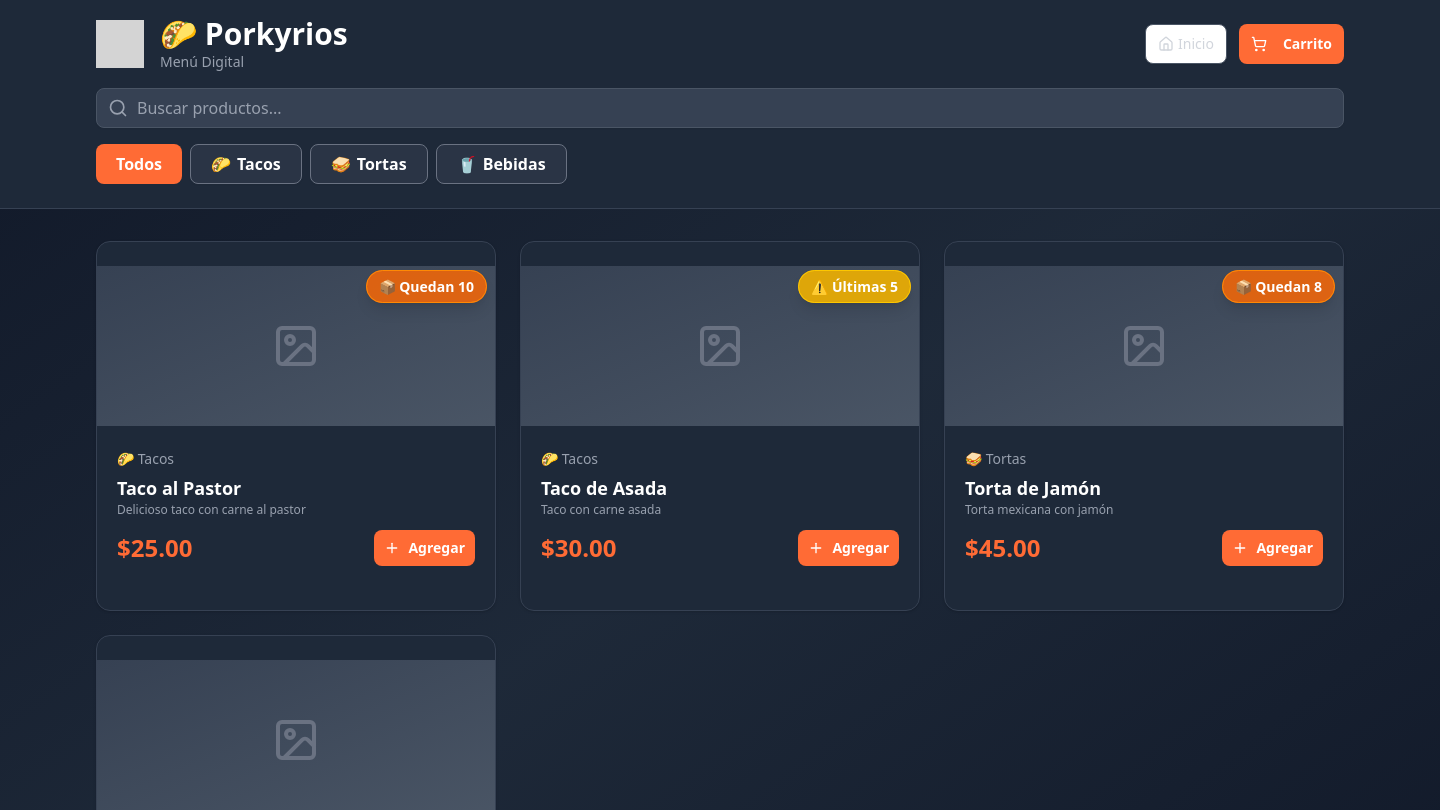
it: MenuPage Component › Category Filters › should filter products by category
Expected: the heading "Taco al Pastor" is shown, [117, 476, 241, 500]
Step 1. Click the button "🌮 Tacos" → (246, 164), box [190, 144, 302, 184]
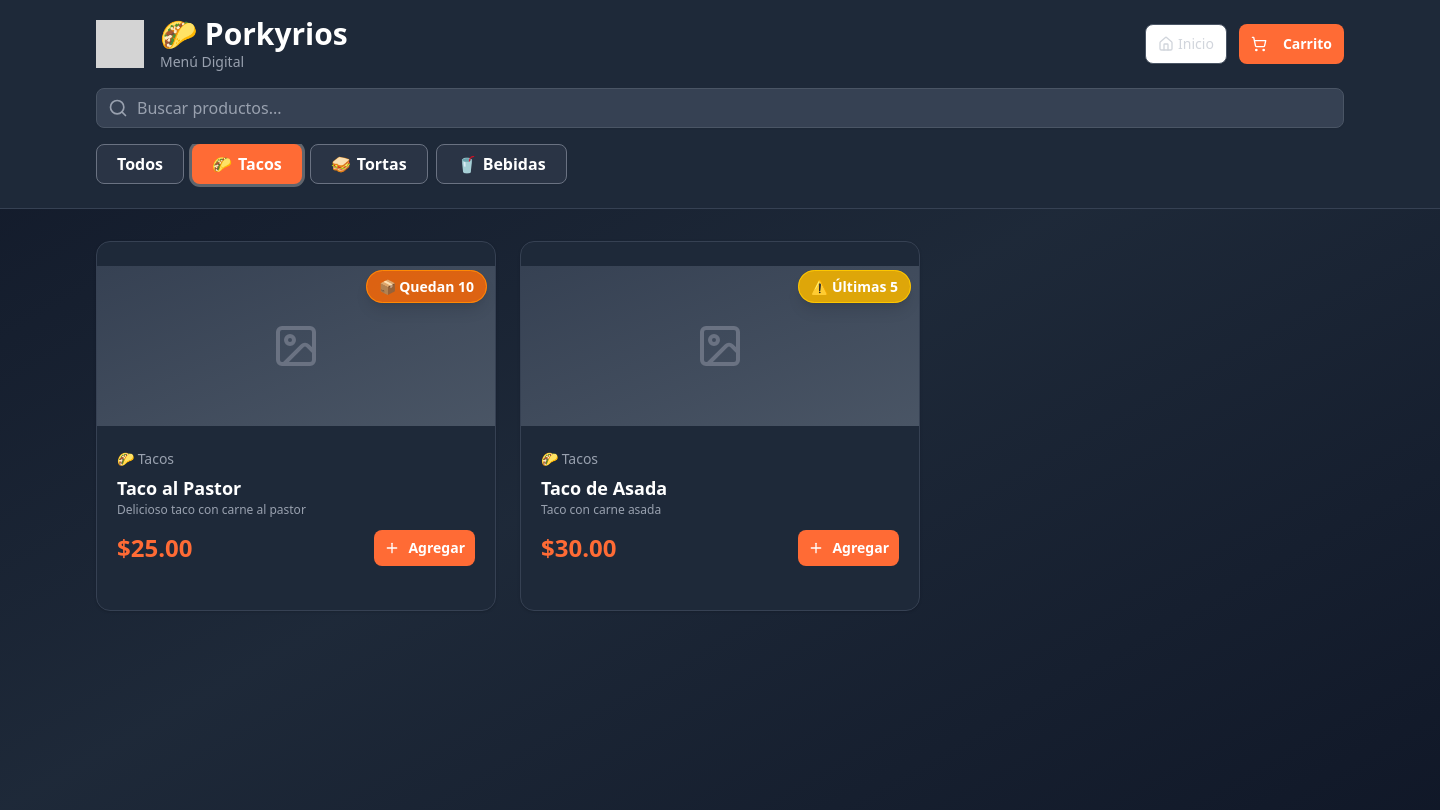
Expected: the heading "Taco al Pastor" is shown, [117, 476, 241, 500]
Now the heading "Torta de Jamón" is gone
